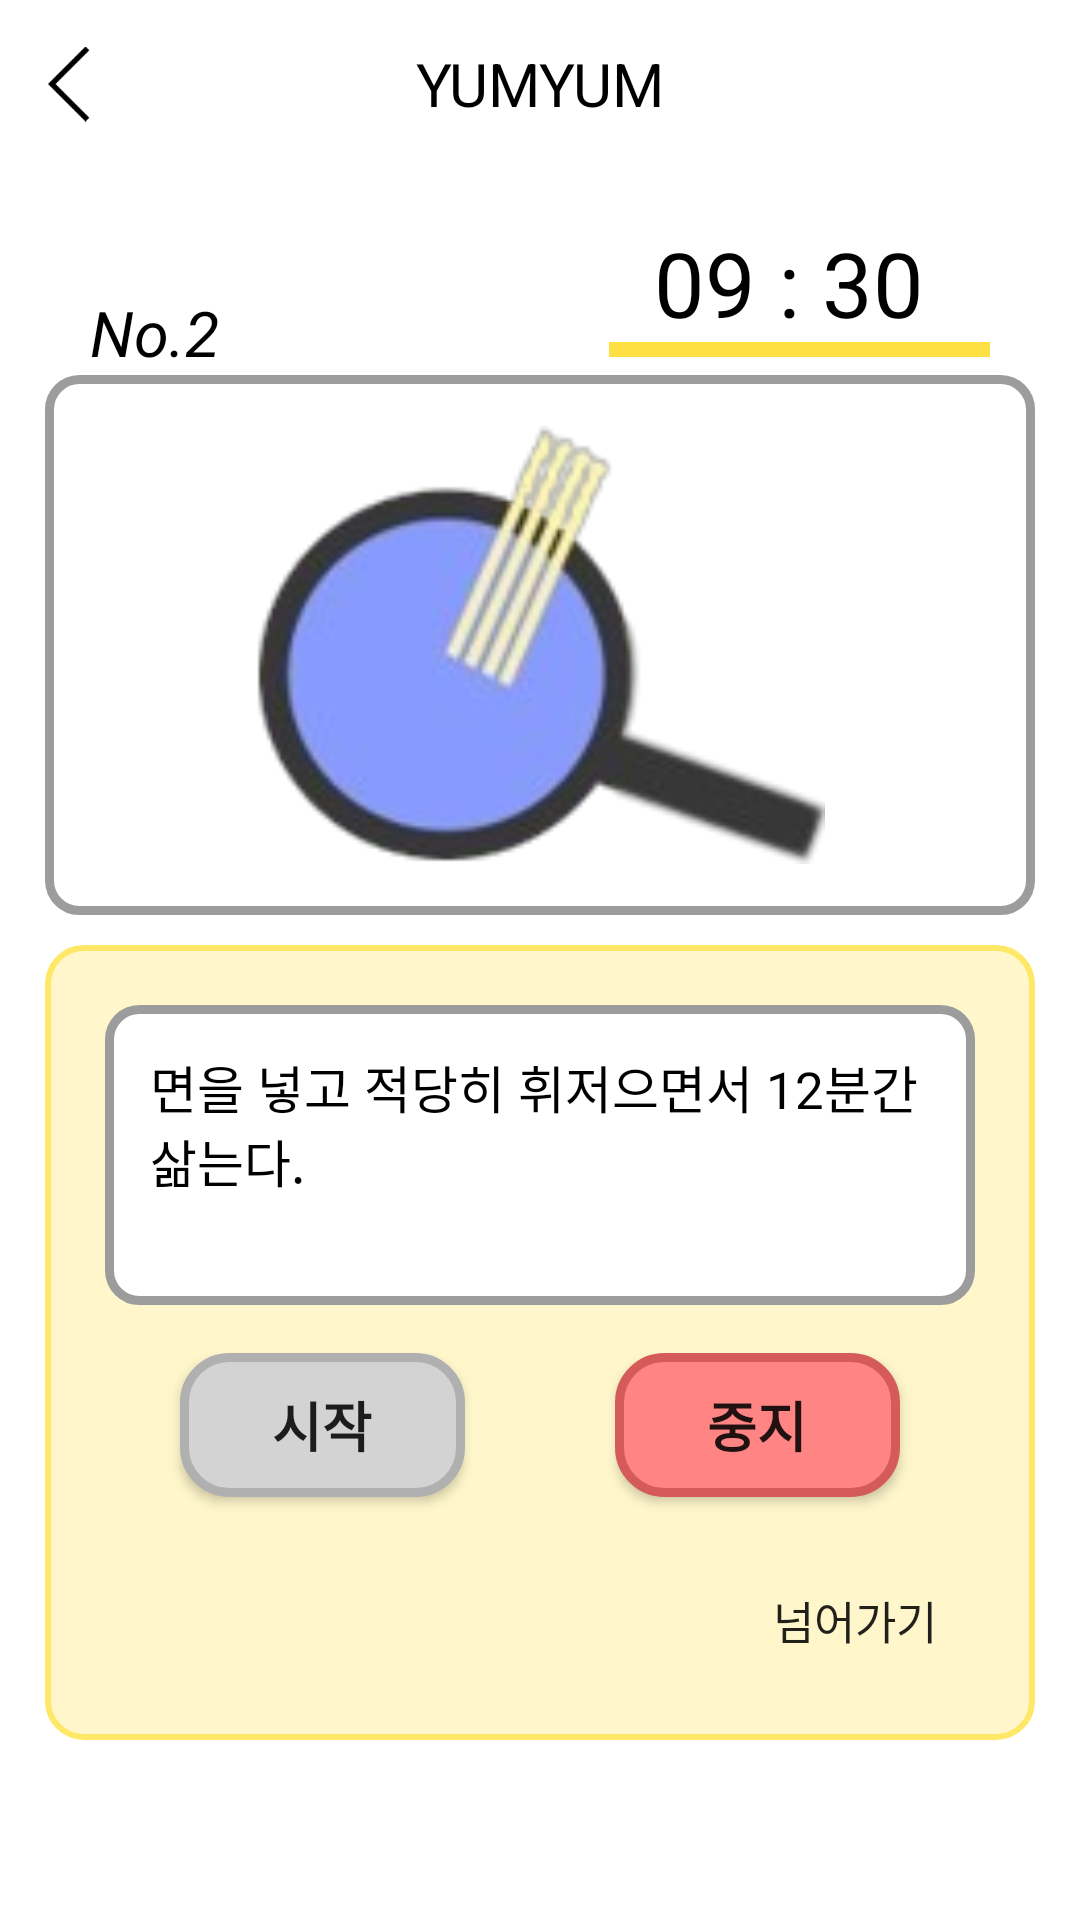

Where icons sit on this 1080x1920 app screen, as (x1, y1, x2, y2):
back: (48, 47, 89, 122)
